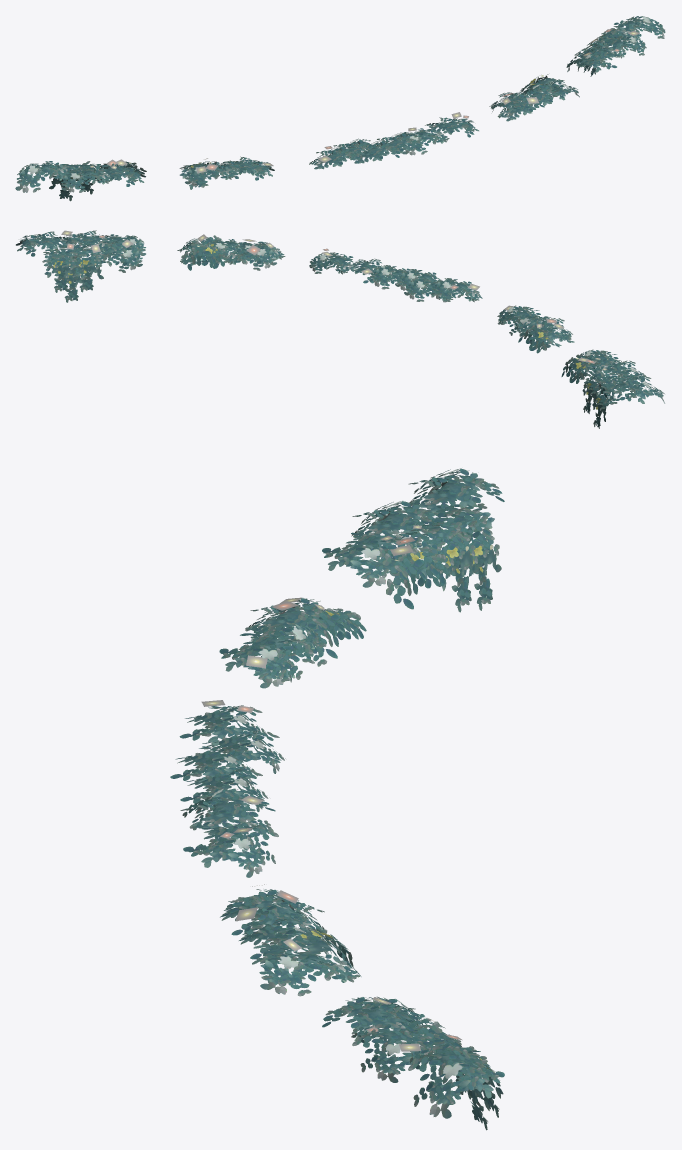
The model's file is pref_Area_Winter_Grandstand_Small_beta_01_lv3.fbx.
The picture shows the model from 3 angles, top to bottom: view 1: azimuth 30°, elevation 25°; view 2: azimuth 150°, elevation 25°; view 3: azimuth 270°, elevation 25°; orthographic projection. The views are drawn at different scales.
Visible parts, largest first — view 1: pref_sm_beach_leaves02_lv3, pref_sm_beach_leaves02_lv3 (3), pref_sm_beach_winter_techvegetation07c_lv3, pref_sm_beach_leaves02_lv3 (1), pref_sm_beach_leaves02_lv3 (9), pref_sm_beach_leaves02_lv3 (15), pref_sm_beach_leaves02_lv3 (12), pref_sm_beach_leaves02_lv3 (4), pref_sm_beach_leaves02_lv3 (5), pref_sm_beach_leaves02_lv3 (13), pref_sm_beach_leaves02_lv3 (14), pref_sm_beach_leaves02_lv3 (2) (+9 smaller); view 2: pref_sm_beach_leaves01_lv3 (9), pref_sm_beach_winter_techvegetation07c_lv3, pref_sm_beach_leaves02_lv3 (21), pref_sm_beach_leaves02_lv3 (19), pref_sm_beach_leaves02_lv3, pref_sm_beach_leaves01_lv3 (4), pref_sm_beach_leaves02_lv3 (12), pref_sm_beach_leaves02_lv3 (1), pref_sm_beach_leaves01_lv3 (1), pref_sm_beach_leaves02_lv3 (14), pref_sm_beach_leaves04_lv3, pref_sm_beach_leaves01_lv3 (6) (+17 smaller); view 3: pref_sm_beach_leaves02_lv3 (1), pref_sm_beach_leaves02_lv3 (14), pref_sm_beach_leaves02_lv3 (8), pref_sm_beach_leaves02_lv3 (18), pref_sm_beach_leaves02_lv3 (2), pref_sm_beach_leaves01_lv3 (8), pref_sm_beach_leaves02_lv3, pref_sm_beach_leaves02_lv3 (5), pref_sm_beach_leaves04_lv3, pref_sm_beach_winter_techvegetation07c_lv3, pref_sm_beach_leaves02_lv3 (15), pref_sm_beach_leaves01_lv3 (10) (+15 smaller).
Boxes of the visible parts, box(x1,y1,x2,y2) form: pref_sm_beach_leaves02_lv3: box(15, 161, 70, 192); pref_sm_beach_leaves02_lv3 (3): box(61, 167, 112, 192); pref_sm_beach_winter_techvegetation07c_lv3: box(90, 29, 639, 173); pref_sm_beach_leaves02_lv3 (1): box(614, 16, 665, 39); pref_sm_beach_leaves02_lv3 (9): box(185, 162, 235, 187); pref_sm_beach_leaves02_lv3 (15): box(399, 128, 449, 155); pref_sm_beach_leaves02_lv3 (12): box(309, 145, 360, 169); pref_sm_beach_leaves02_lv3 (4): box(575, 45, 618, 72); pref_sm_beach_leaves02_lv3 (5): box(602, 35, 646, 58); pref_sm_beach_leaves02_lv3 (13): box(349, 140, 400, 163); pref_sm_beach_leaves02_lv3 (14): box(425, 117, 478, 137); pref_sm_beach_leaves02_lv3 (2): box(95, 163, 145, 186); pref_sm_beach_leaves01_lv3 (9): box(181, 235, 229, 270); pref_sm_beach_winter_techvegetation07c_lv3: box(61, 230, 607, 370); pref_sm_beach_leaves02_lv3 (21): box(225, 241, 276, 270); pref_sm_beach_leaves02_lv3 (19): box(93, 237, 142, 272); pref_sm_beach_leaves02_lv3: box(614, 374, 664, 403); pref_sm_beach_leaves01_lv3 (4): box(42, 251, 81, 292); pref_sm_beach_leaves02_lv3 (12): box(431, 278, 482, 302); pref_sm_beach_leaves02_lv3 (1): box(16, 231, 69, 256); pref_sm_beach_leaves01_lv3 (1): box(69, 251, 107, 292); pref_sm_beach_leaves02_lv3 (14): box(309, 252, 354, 274); pref_sm_beach_leaves04_lv3: box(586, 365, 628, 401); pref_sm_beach_leaves01_lv3 (6): box(518, 323, 574, 353); pref_sm_beach_leaves02_lv3 (1): box(407, 1043, 504, 1118); pref_sm_beach_leaves02_lv3 (14): box(183, 818, 278, 877); pref_sm_beach_leaves02_lv3 (8): box(219, 630, 319, 688); pref_sm_beach_leaves02_lv3 (18): box(252, 948, 360, 996); pref_sm_beach_leaves02_lv3 (2): box(322, 529, 421, 587); pref_sm_beach_leaves01_lv3 (8): box(361, 544, 448, 609); pref_sm_beach_leaves02_lv3: box(408, 468, 504, 513); pref_sm_beach_leaves02_lv3 (5): box(351, 1023, 446, 1082); pref_sm_beach_leaves04_lv3: box(399, 503, 494, 549); pref_sm_beach_winter_techvegetation07c_lv3: box(201, 525, 462, 1051); pref_sm_beach_leaves02_lv3 (15): box(180, 788, 275, 834); pref_sm_beach_leaves01_lv3 (10): box(421, 522, 478, 612).
Size of the model in its own units: 31.48 by 2.58 by 7.2.
